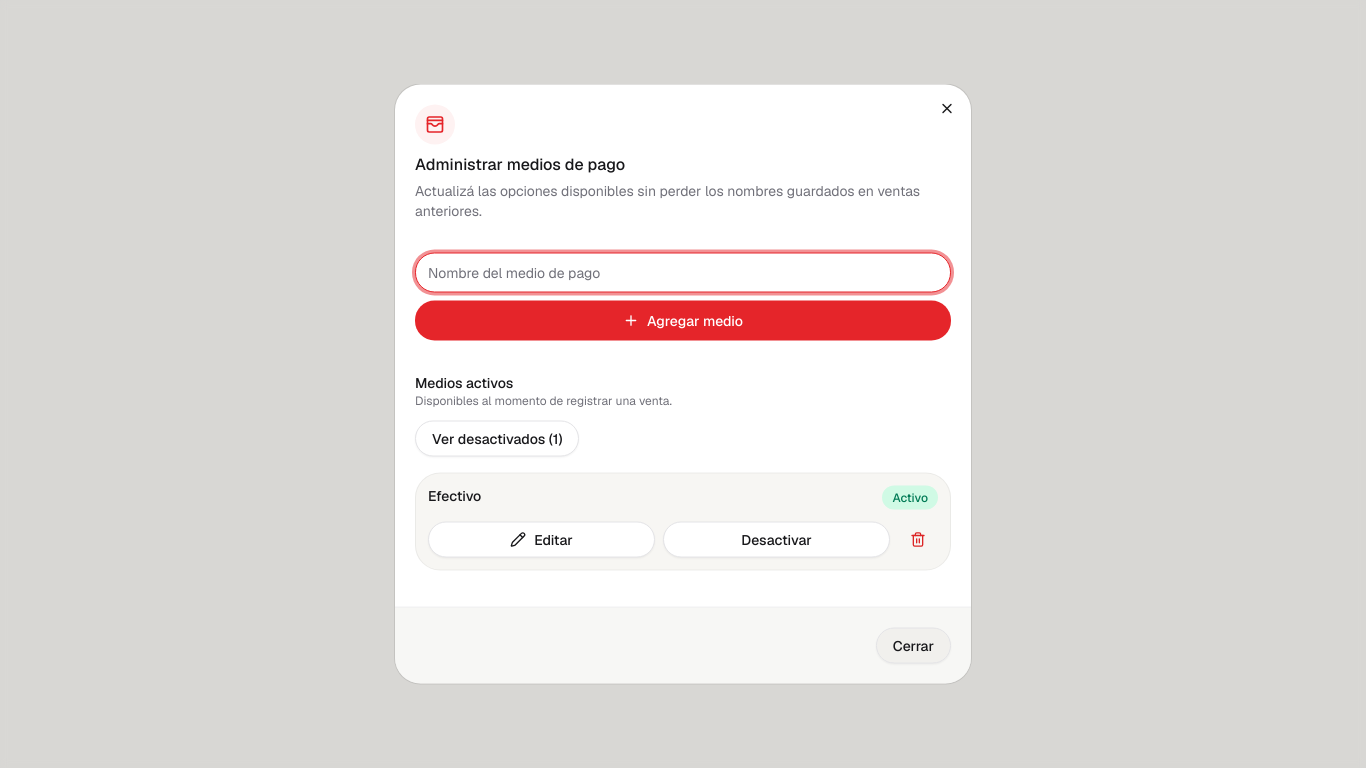
Scenario: shows active methods by default and keeps inactive methods in a separate view
Check: the text "Efectivo" is shown, box [428,486,481,506]
Check: the text "Transferencia" is not shown
Click the button "Ver desactivados (1)" at {"x": 497, "y": 438}, box [415,420,580,456]
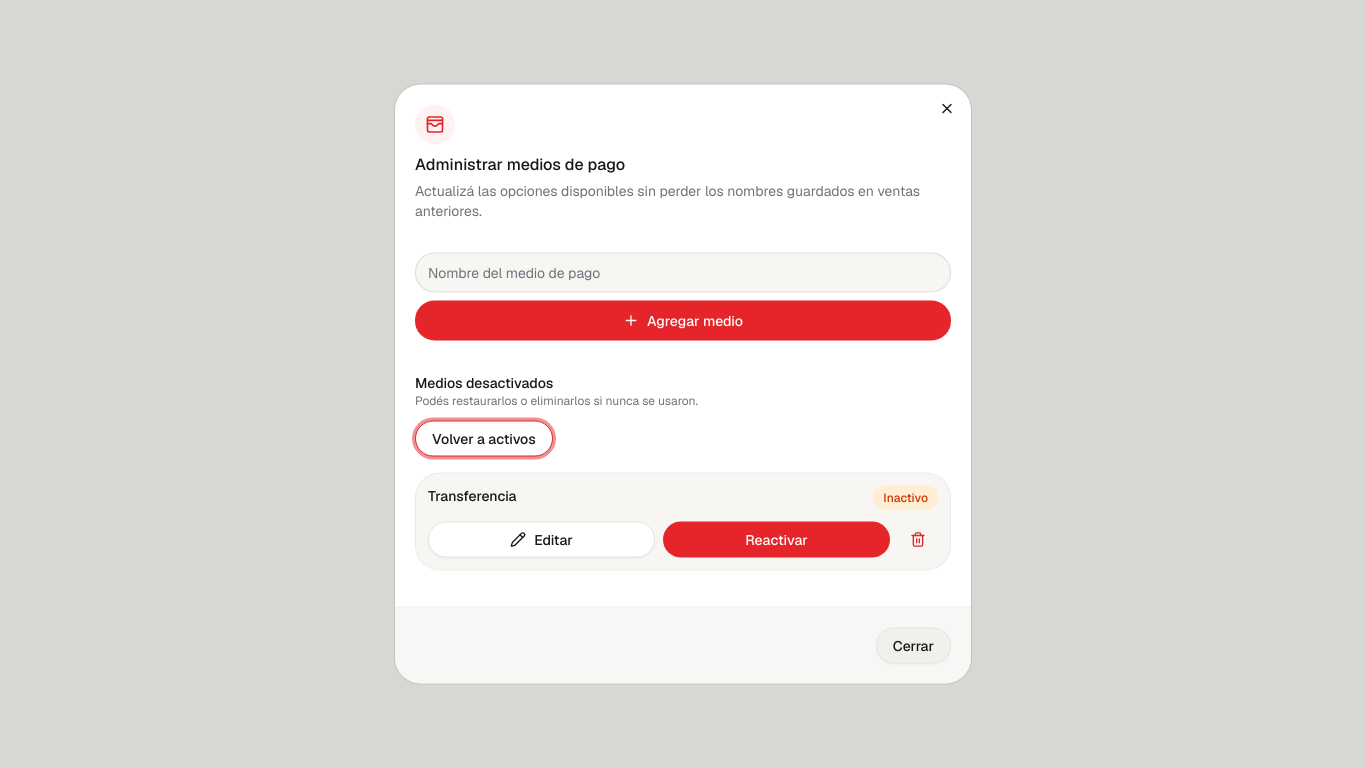
Check: the text "Efectivo" is gone
Check: the text "Transferencia" is shown, box [428,486,516,506]
Check: the button "Volver a activos" is shown, box [415,420,553,456]
